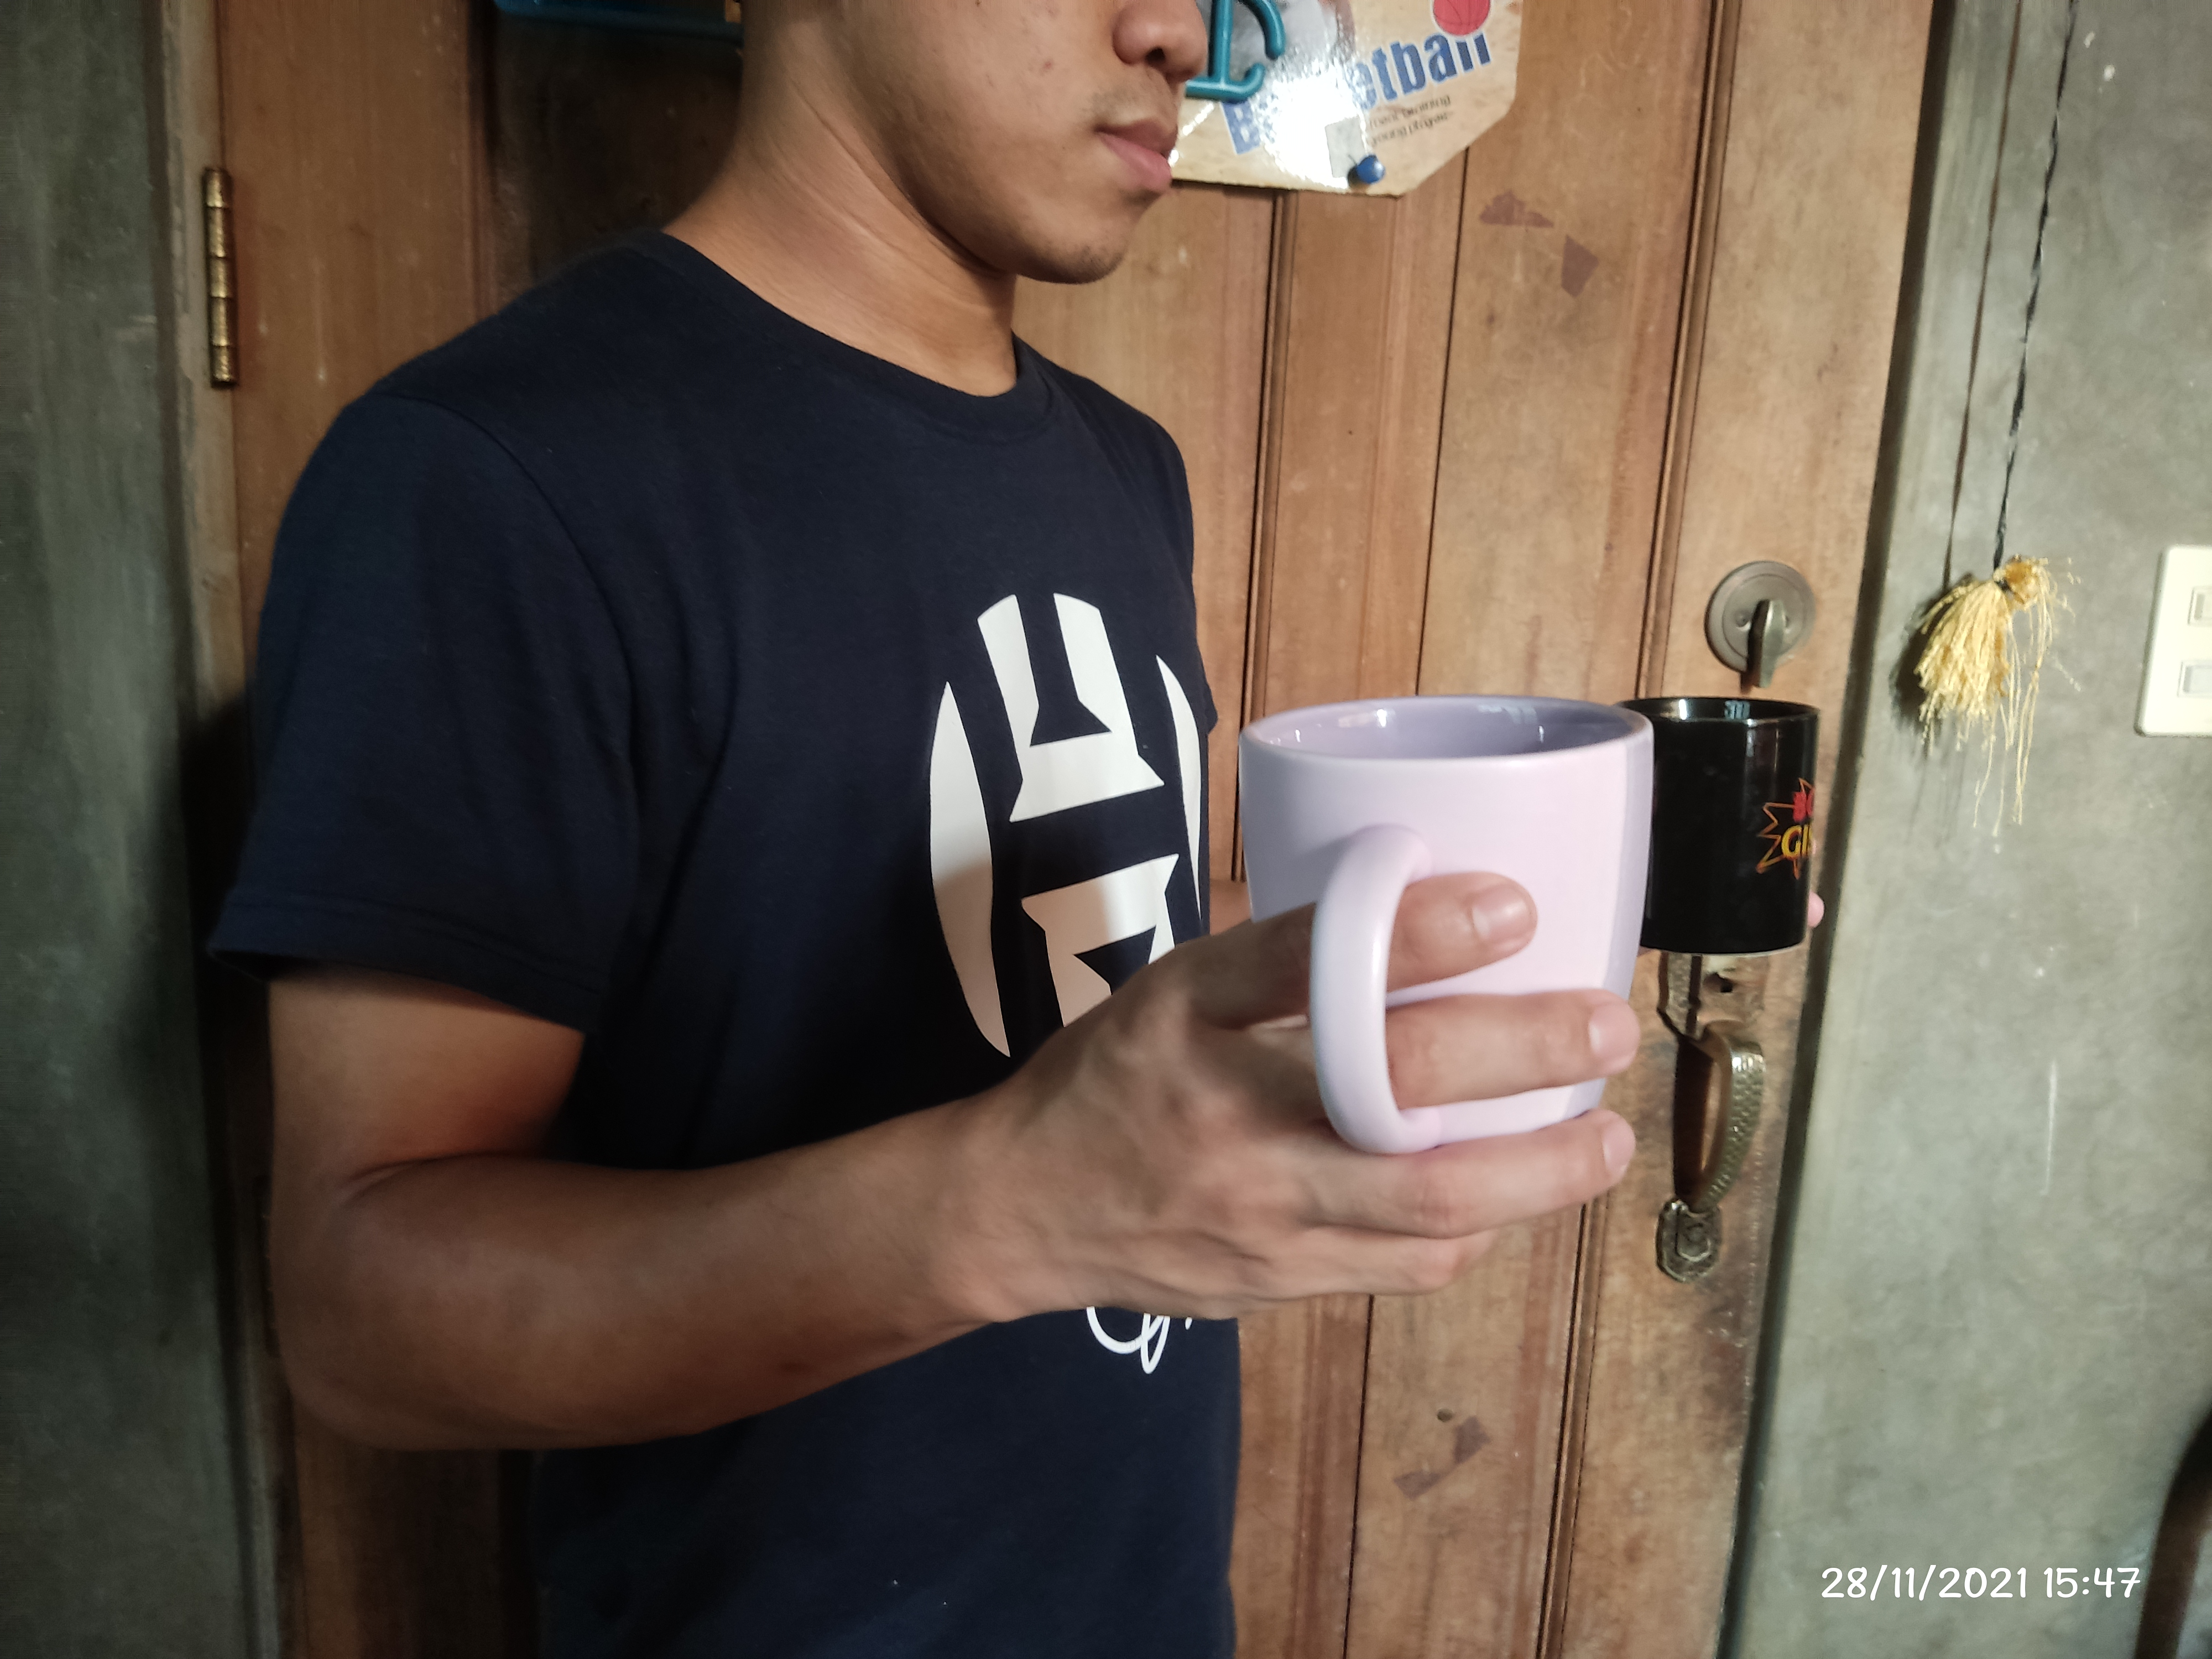mug: (1233, 692, 1651, 1152), (1620, 690, 1822, 958)
